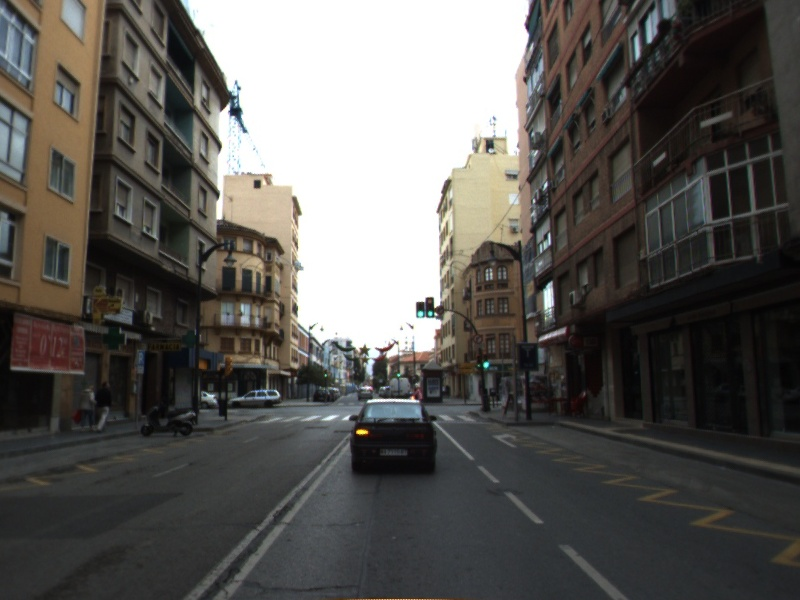RIGHT: (489, 430, 520, 450)
